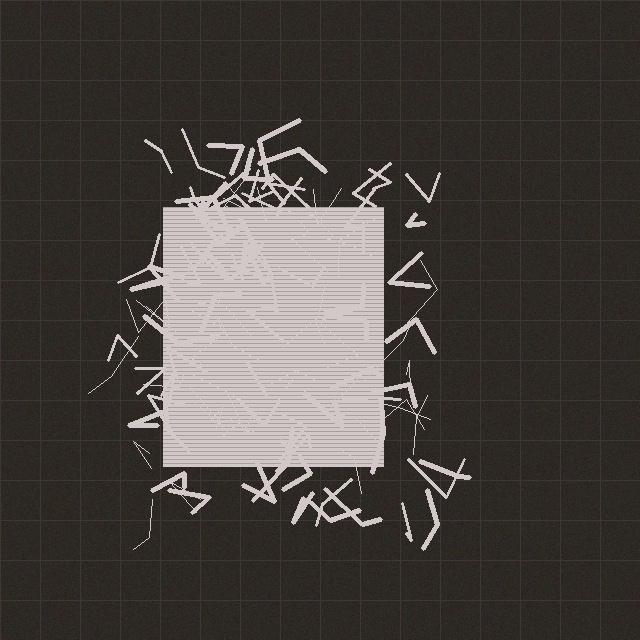spaghetti: (123, 157, 443, 516)
